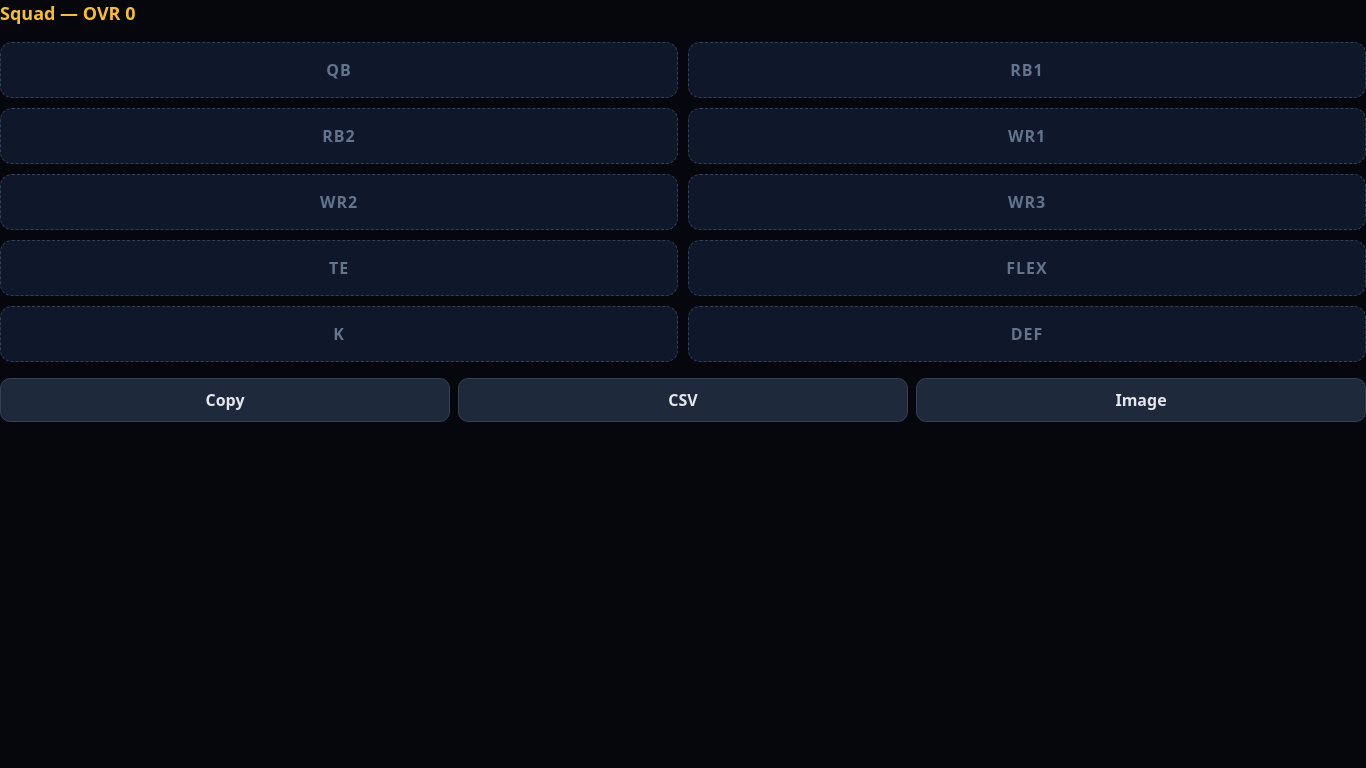
Test: Squad screen › FLEX accepts RB/WR/TE but not QB or DEF
The image size is (1366, 768).
Click the button with test id "slot-FLEX" at [1027, 268], box left=688, top=240, right=1365, bottom=296
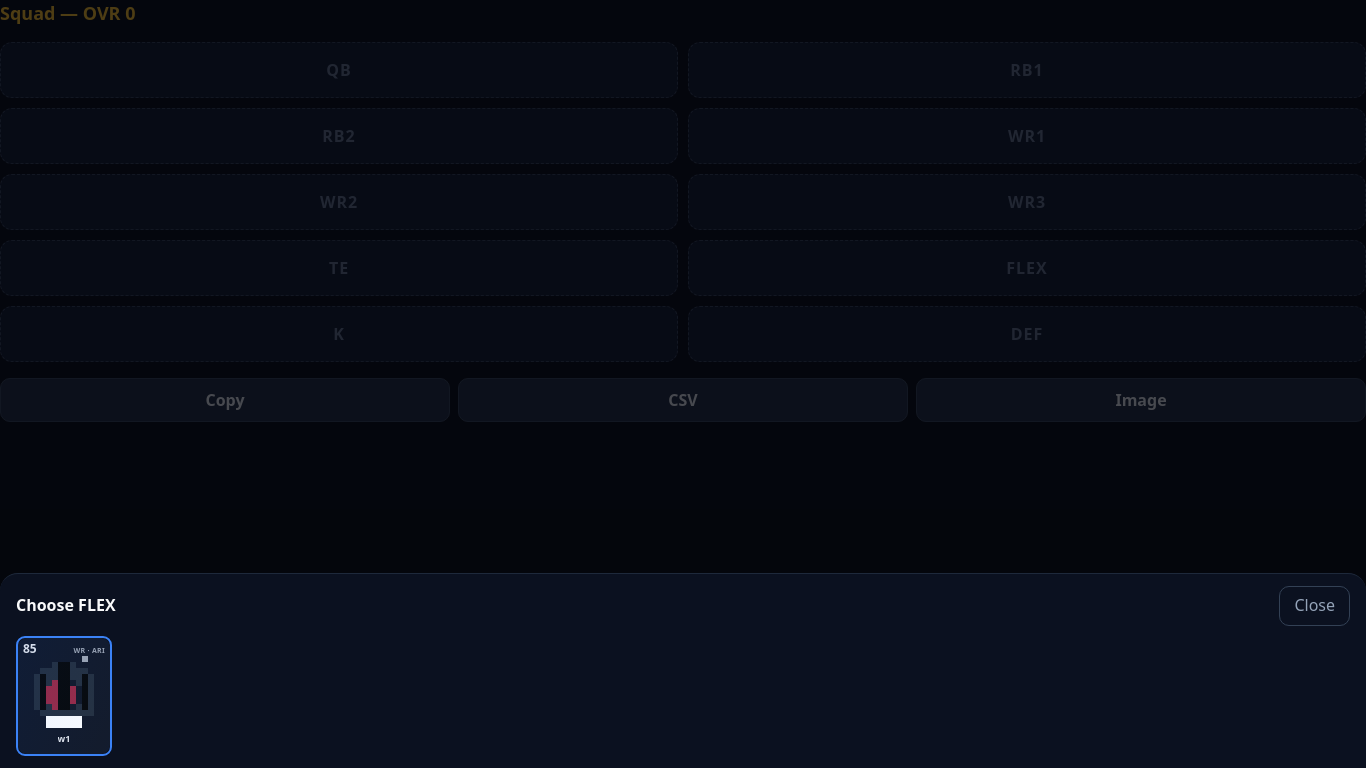
expect the button with test id "pick-w1" is shown: met, box left=16, top=636, right=130, bottom=756
Click the button with test id "picker-close" at [1315, 606], box left=1279, top=586, right=1350, bottom=626
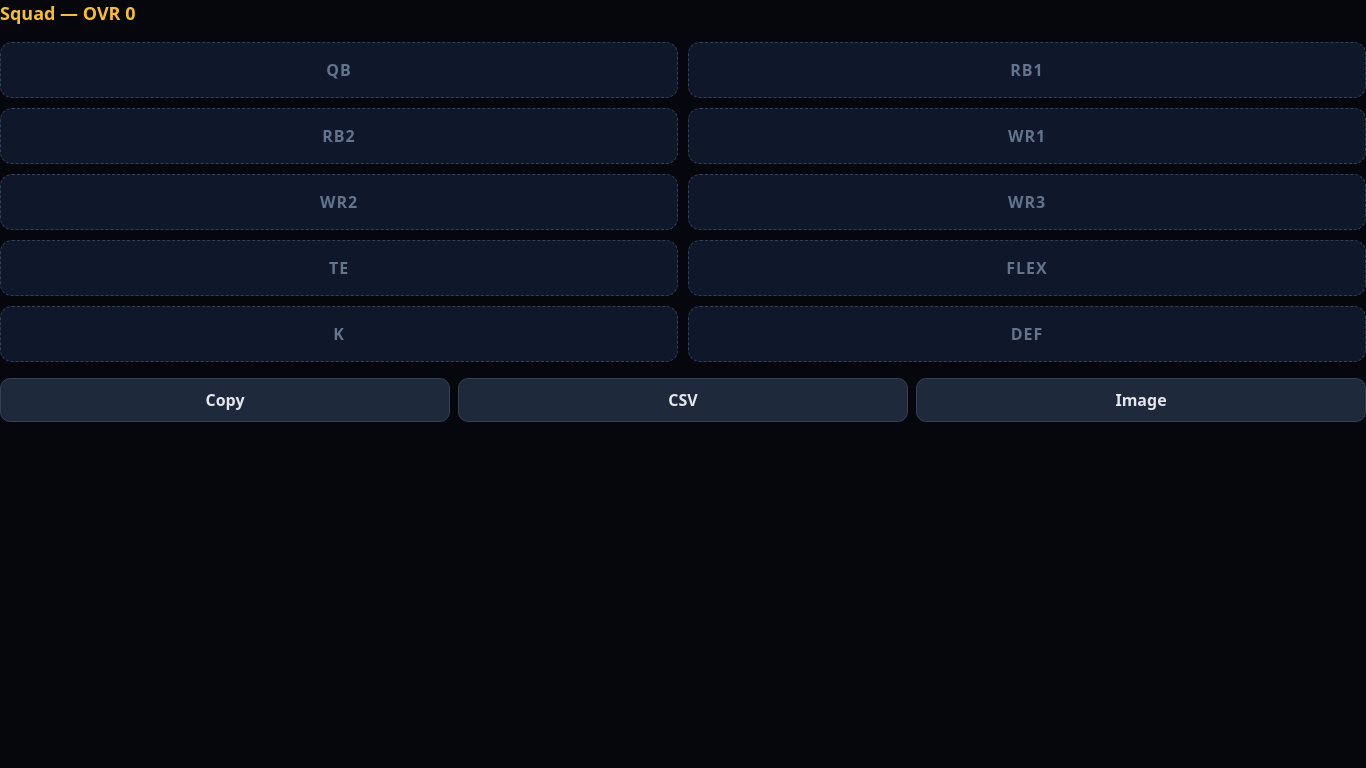
expect the button with test id "pick-w1" is gone: met
